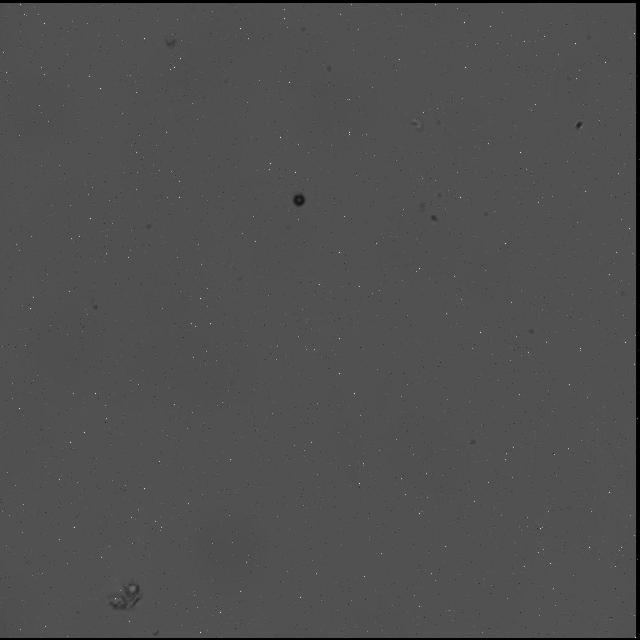microbeads: (292, 190, 306, 208)
